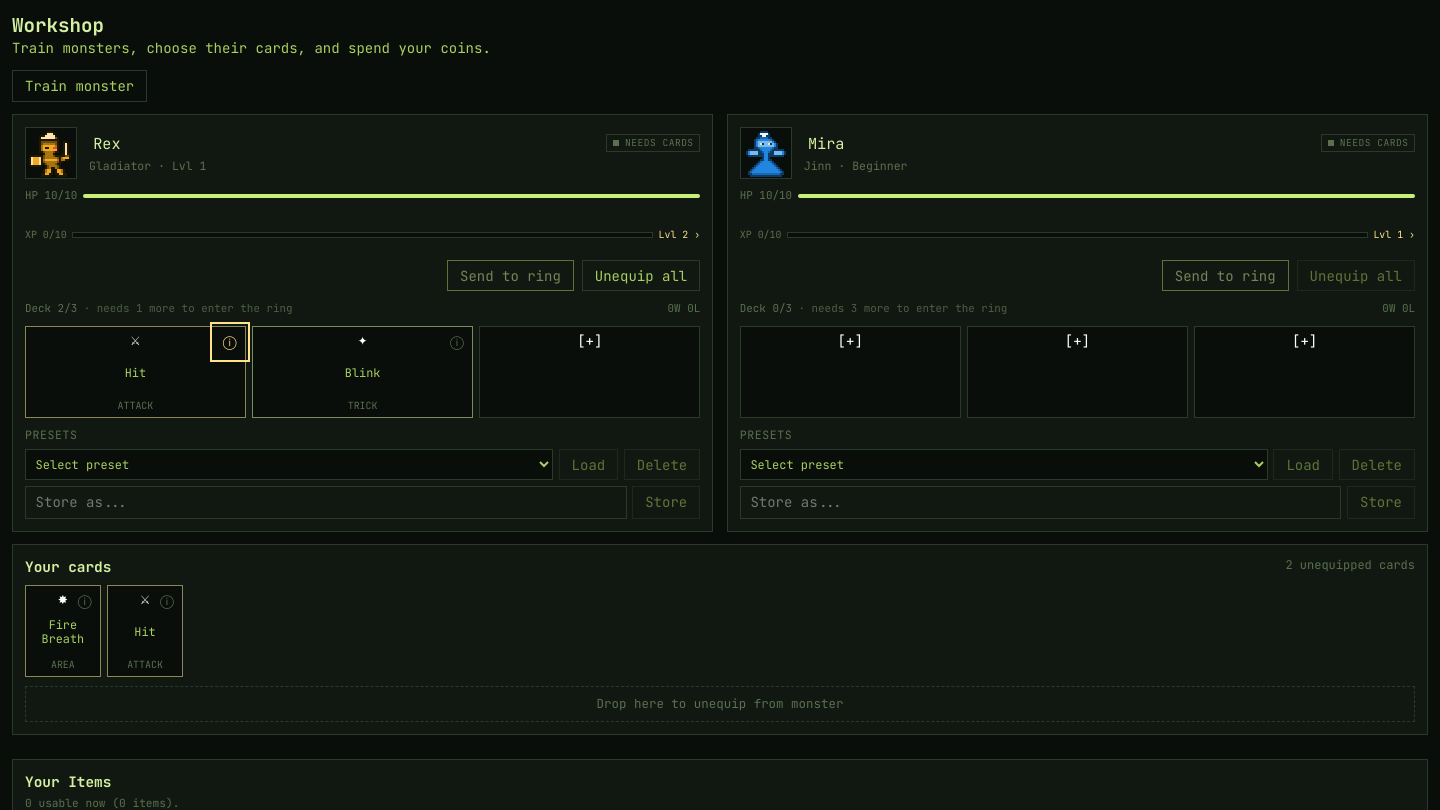
Test: card details sheet in the Workshop › closes on Escape and from the Close button (titled), and focus moves in then back
Click the button named "What Hit does" at (230, 342), box [214,326,246,358]
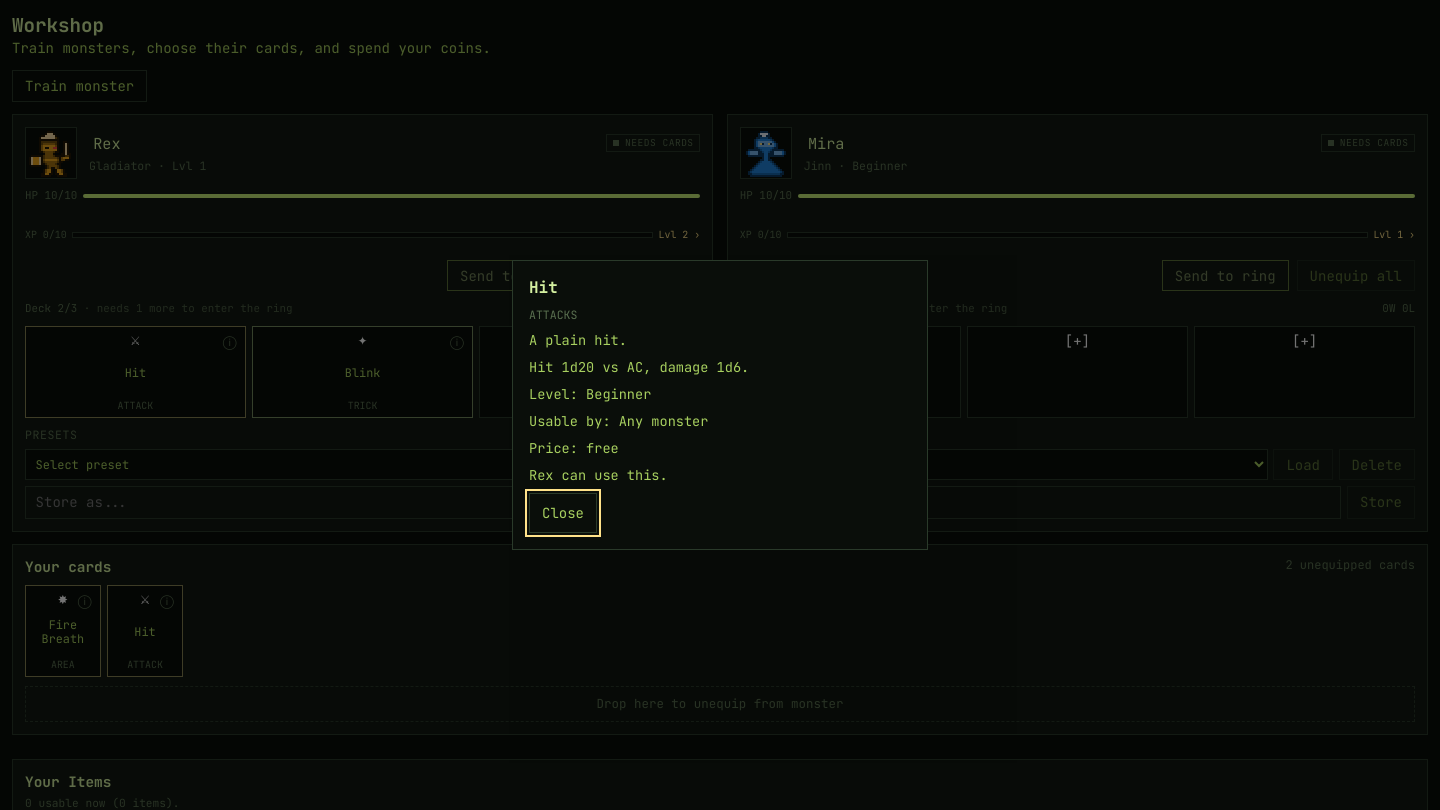
Press Escape
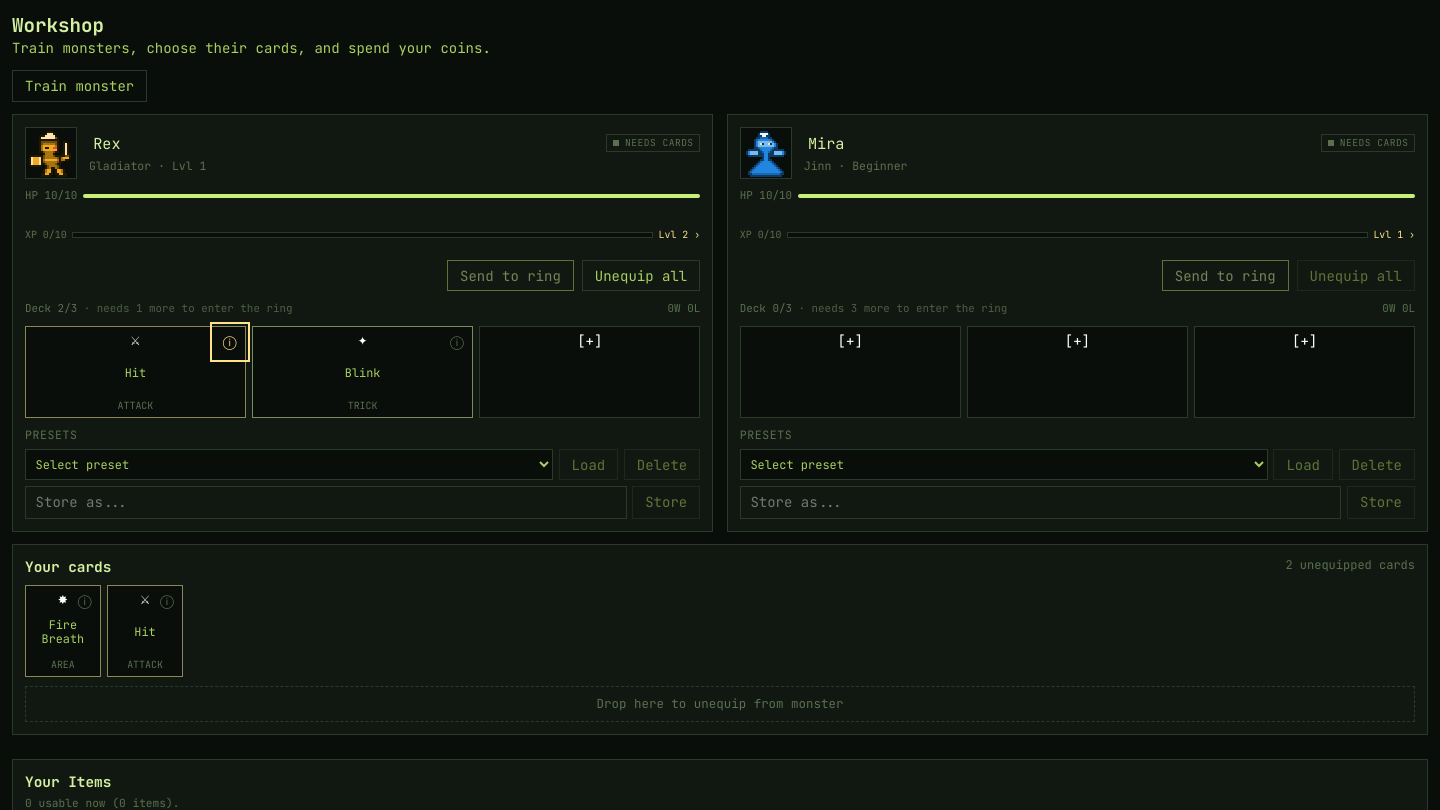
Now the dialog is gone
